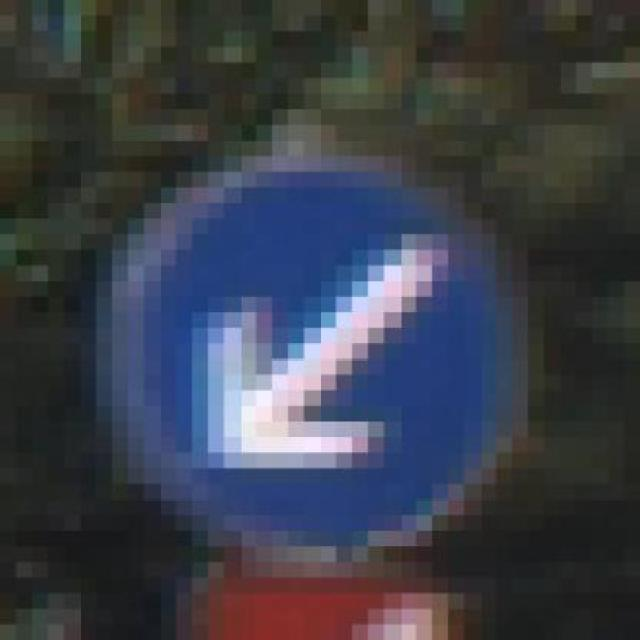Keep-Left: (64, 124, 544, 562)
